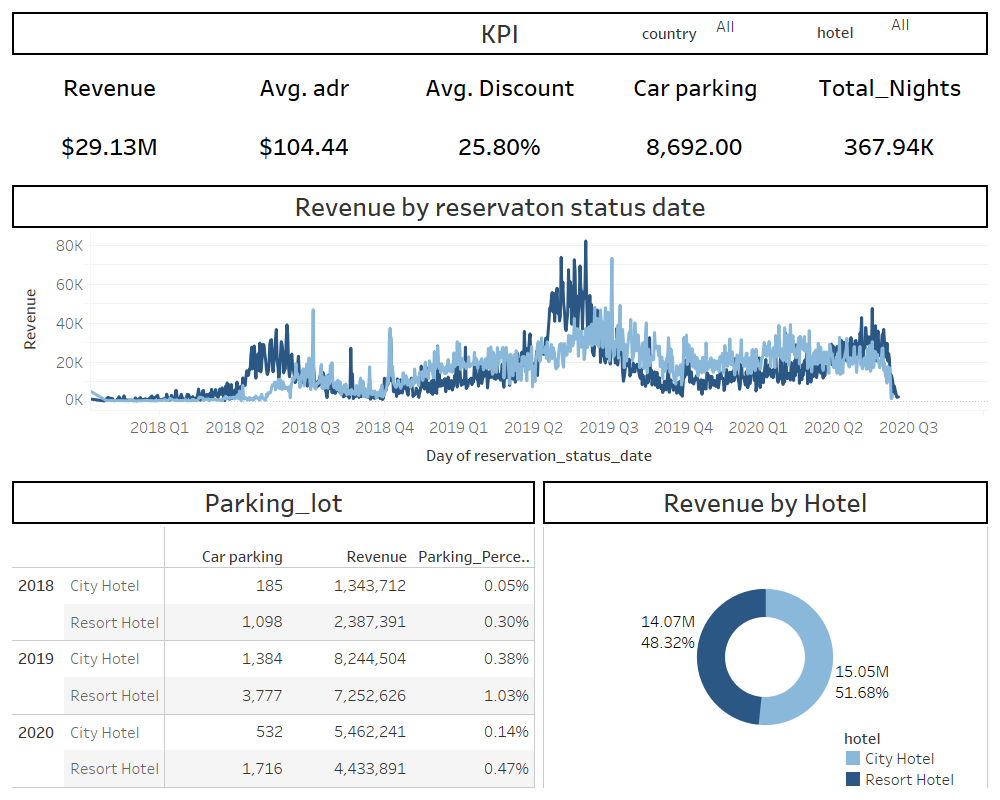

Layout of this report page (visuals, bound fields, positions):
{"tool":"tableau","page":{"name":"Dashboard 1","canvas":[1000,800],"ordinal":0},"visuals":[{"type":"worksheet","title":"KPI","mark":"Automatic","box":[8,8,984,173]},{"type":"filter","title":"Revenue by reservaton status date","param":"[federated.1dohr5k0fqzjg510sd9us0r1udqp].[none:hotel:nk]","box":[817,14,168,37]},{"type":"filter","title":"Revenue by reservaton status date","param":"[federated.1dohr5k0fqzjg510sd9us0r1udqp].[none:country:nk]","box":[642,16,168,35]},{"type":"worksheet","title":"Revenue by reservaton status date","mark":"Automatic","rows":["Calculation_98234822421413888"],"cols":["reservation_status_date"],"box":[8,181,984,296]},{"type":"worksheet","title":"Parking_lot","mark":"Automatic","rows":["reservation_status_date","hotel"],"box":[8,477,531,315]},{"type":"worksheet","title":"Revenue by Hotel","mark":"Pie","rows":["Calculation_736057119813246983","Calculation_736057119813267465"],"box":[539,477,453,315]},{"type":"legend","title":"Revenue by reservaton status date","param":"[federated.1dohr5k0fqzjg510sd9us0r1udqp].[none:hotel:nk]","box":[843,726,140,64]}]}

Visuals, with their boxes in screenshot pixels (x1, y1, x2, y2), scaled from the page's 1000x800 canvas onto the 1000x800 screenshot:
"KPI" worksheet: [left=8, top=8, right=992, bottom=181]
"Revenue by reservaton status date" filter: [left=817, top=14, right=985, bottom=51]
"Revenue by reservaton status date" filter: [left=642, top=16, right=810, bottom=51]
"Revenue by reservaton status date" worksheet: [left=8, top=181, right=992, bottom=477]
"Parking_lot" worksheet: [left=8, top=477, right=539, bottom=792]
"Revenue by Hotel" worksheet (Pie marks): [left=539, top=477, right=992, bottom=792]
"Revenue by reservaton status date" legend: [left=843, top=726, right=983, bottom=790]
